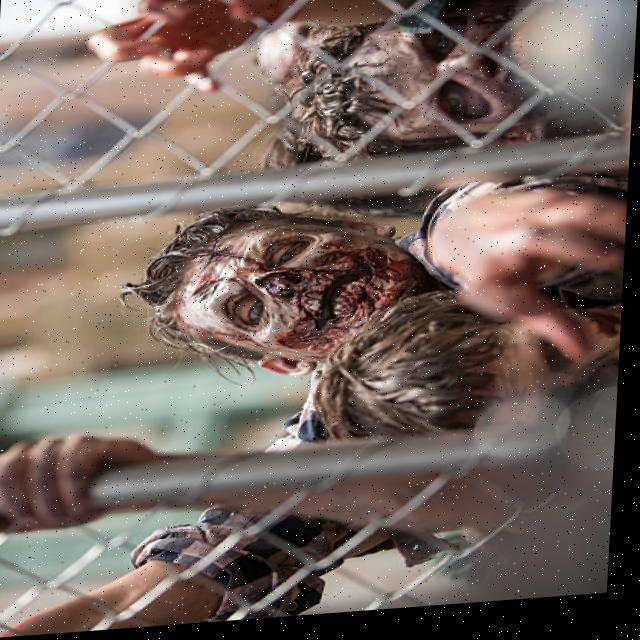Zombie: (140, 195, 393, 381), (284, 20, 552, 158), (306, 319, 610, 432)
